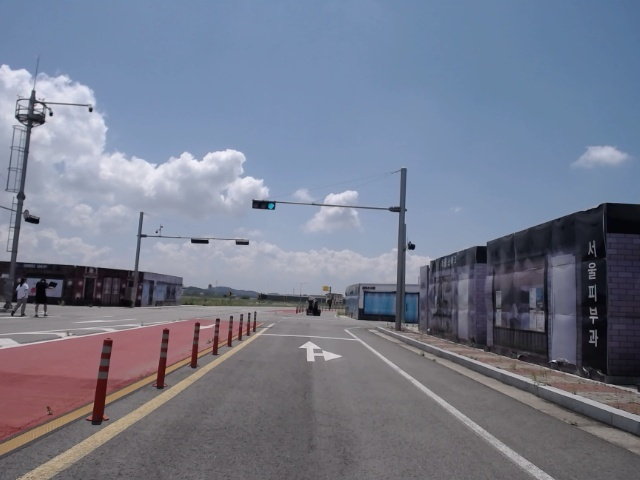green_3: (253, 201, 276, 209)
